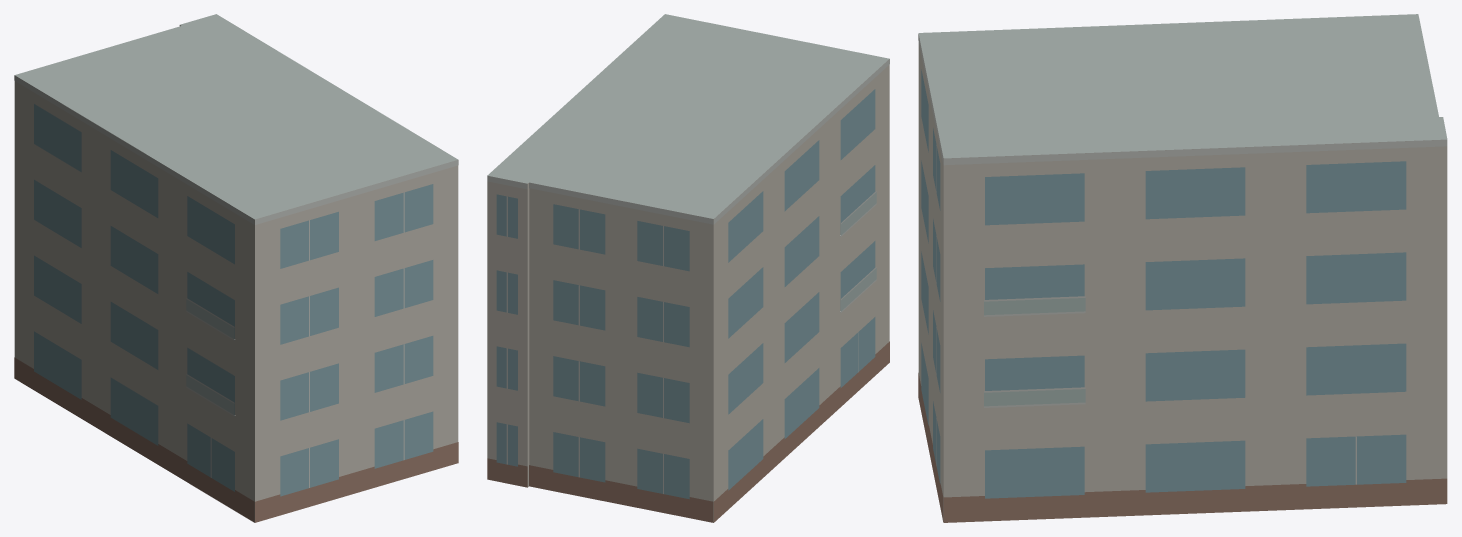
The model's file is survey-upis-33041460.glb.
The picture shows the model from 3 angles, left to right: view 1: azimuth 30°, elevation 25°; view 2: azimuth 150°, elevation 25°; view 3: azimuth 270°, elevation 25°; orthographic projection. The views are drawn at different scales.
Parts seen in each view (by area): view 1: survey-upis-33041460.tmp; view 2: survey-upis-33041460.tmp; view 3: survey-upis-33041460.tmp.
Part boxes in pixels (x1=…): survey-upis-33041460.tmp: x1=14, y1=14, x2=458, y2=522; survey-upis-33041460.tmp: x1=487, y1=14, x2=889, y2=522; survey-upis-33041460.tmp: x1=918, y1=14, x2=1447, y2=522.
Size of the model in its own units: 11.1 by 13.05 by 17.18.
